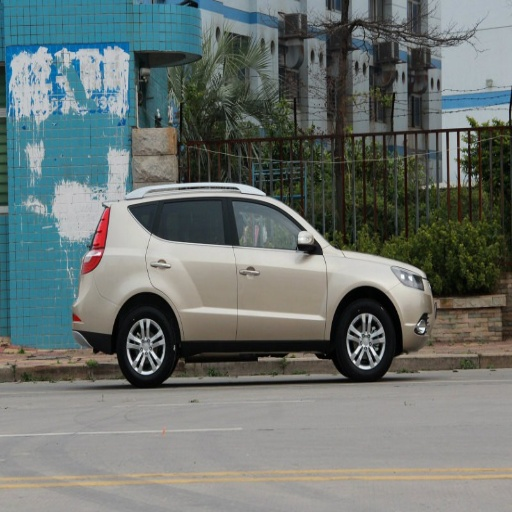back_right_door: (146, 195, 237, 339)
front_right_door: (231, 195, 327, 337)
